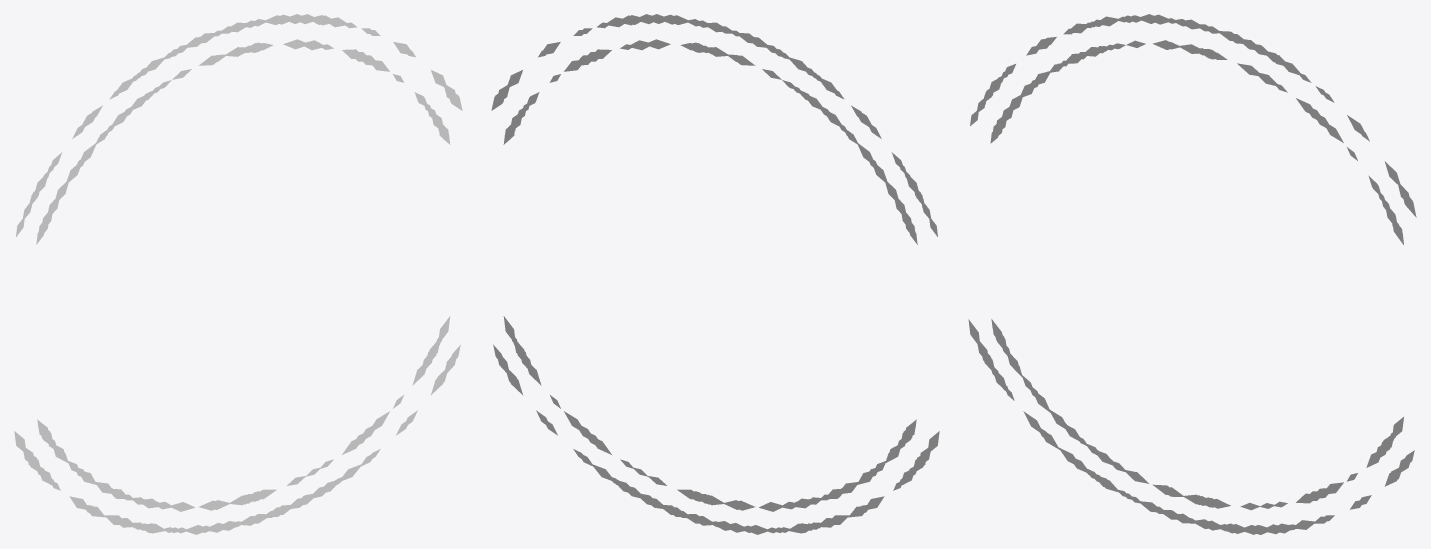
The model's file is LensedStars.obj.
3 views of the same model, side by side, from view 1: azimuth 30°, elevation 25°; view 2: azimuth 150°, elevation 25°; view 3: azimuth 330°, elevation 25° (orthographic).
Visible parts, largest first — view 1: LensedStars; view 2: LensedStars; view 3: LensedStars.
Part boxes in pixels (box(x1,y1,x2,y2)): LensedStars: box(14, 14, 462, 534); LensedStars: box(491, 14, 939, 534); LensedStars: box(968, 14, 1416, 534).
Size of the model in its own units: 57.11 by 61.66 by 0.
Materials: 1 (1 with a texture image).
